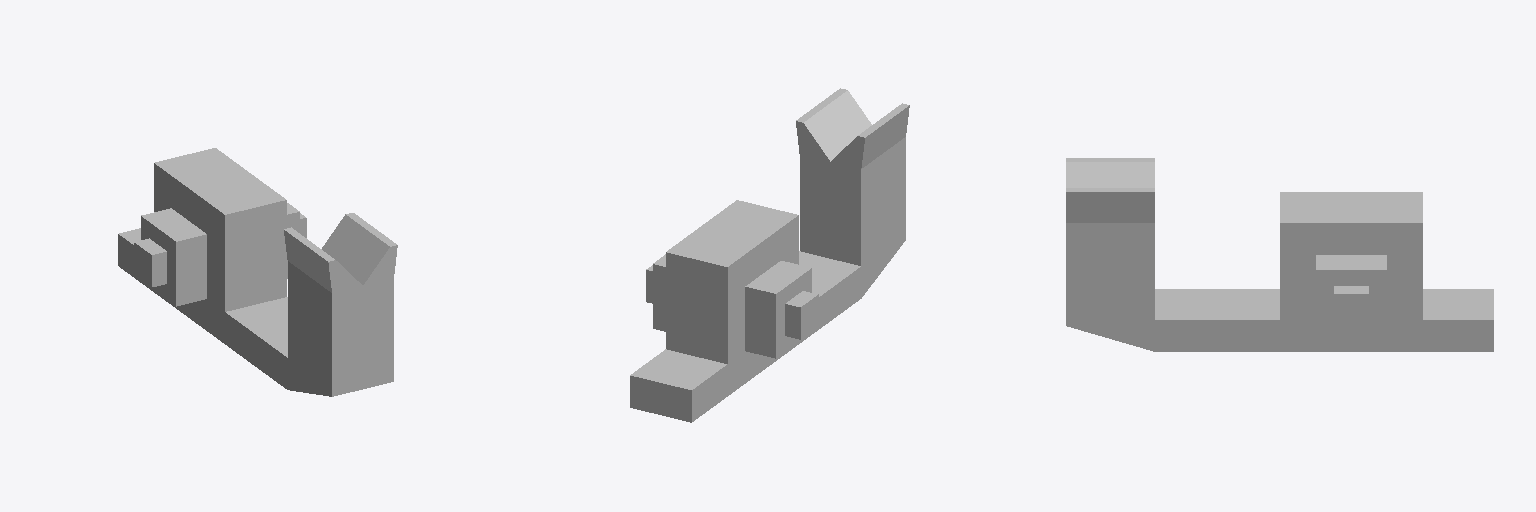
The model's file is animal4.obj.
3 renders of one model, left to right at view 1: azimuth 30°, elevation 25°; view 2: azimuth 150°, elevation 25°; view 3: azimuth 270°, elevation 25°, orthographic.
Parts seen in each view (by area): view 1: Cube_Cube.001; view 2: Cube_Cube.001; view 3: Cube_Cube.001.
Part boxes in pixels (x1,y1,x2,y2): Cube_Cube.001: (118,148,397,396); Cube_Cube.001: (630,88,909,422); Cube_Cube.001: (1066,158,1493,351).
Size of the model in its own units: 2.5 by 2.5 by 6.